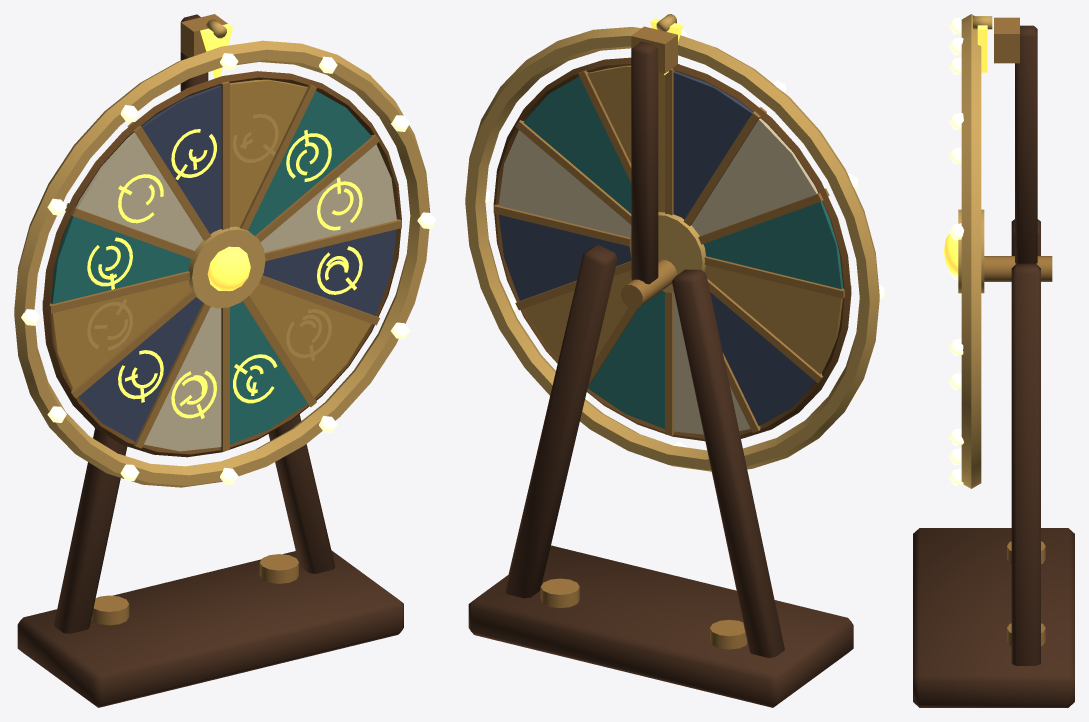
File: prop_wheel_of_fortune.glb
The picture shows the model from 3 angles, left to right: view 1: azimuth 30°, elevation 25°; view 2: azimuth 150°, elevation 25°; view 3: azimuth 270°, elevation 25°; orthographic projection.
Visible parts, largest first — view 1: wheel_spin, wheel_prop; view 2: wheel_spin, wheel_prop; view 3: wheel_prop, wheel_spin, wheel_pointer.
Boxes of the visible parts, x1=… form: wheel_spin: x1=14, y1=40, x2=436, y2=487; wheel_prop: x1=17, y1=14, x2=403, y2=707; wheel_spin: x1=465, y1=27, x2=884, y2=471; wheel_prop: x1=468, y1=26, x2=853, y2=707; wheel_prop: x1=913, y1=17, x2=1074, y2=707; wheel_spin: x1=944, y1=14, x2=984, y2=488; wheel_pointer: x1=977, y1=16, x2=987, y2=72.
Bounding box in the file's own units: 1.47 × 2.11 × 0.5.
